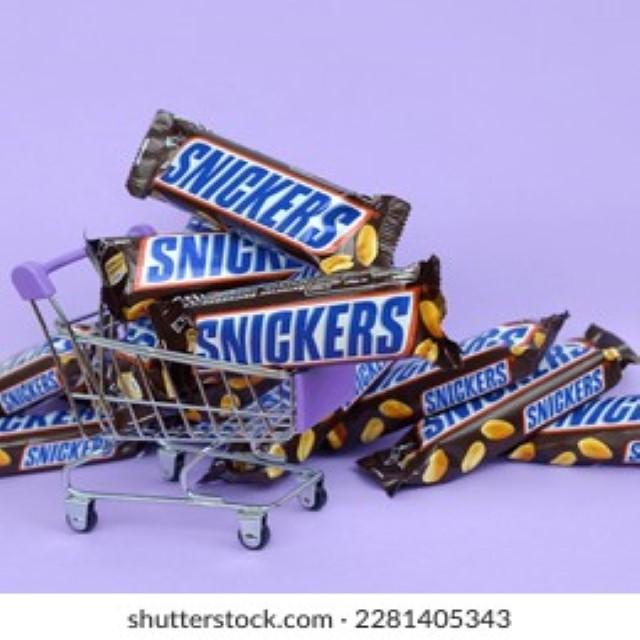snickers_chocolate: (162, 122, 393, 260), (372, 318, 585, 448), (202, 287, 445, 375), (99, 238, 368, 295)
